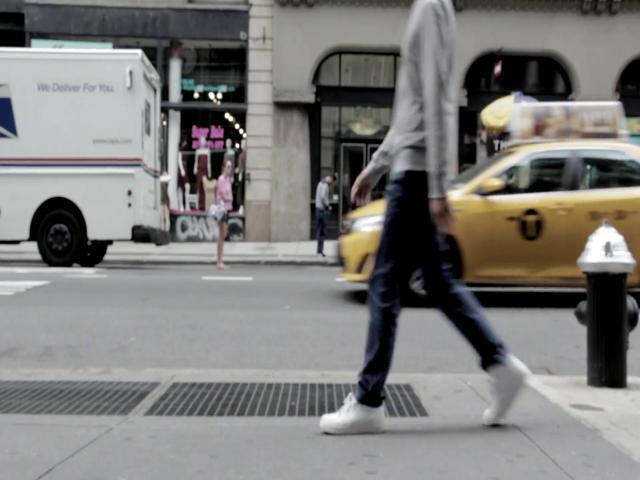shoe: (483, 354, 530, 425), (319, 394, 385, 433)
